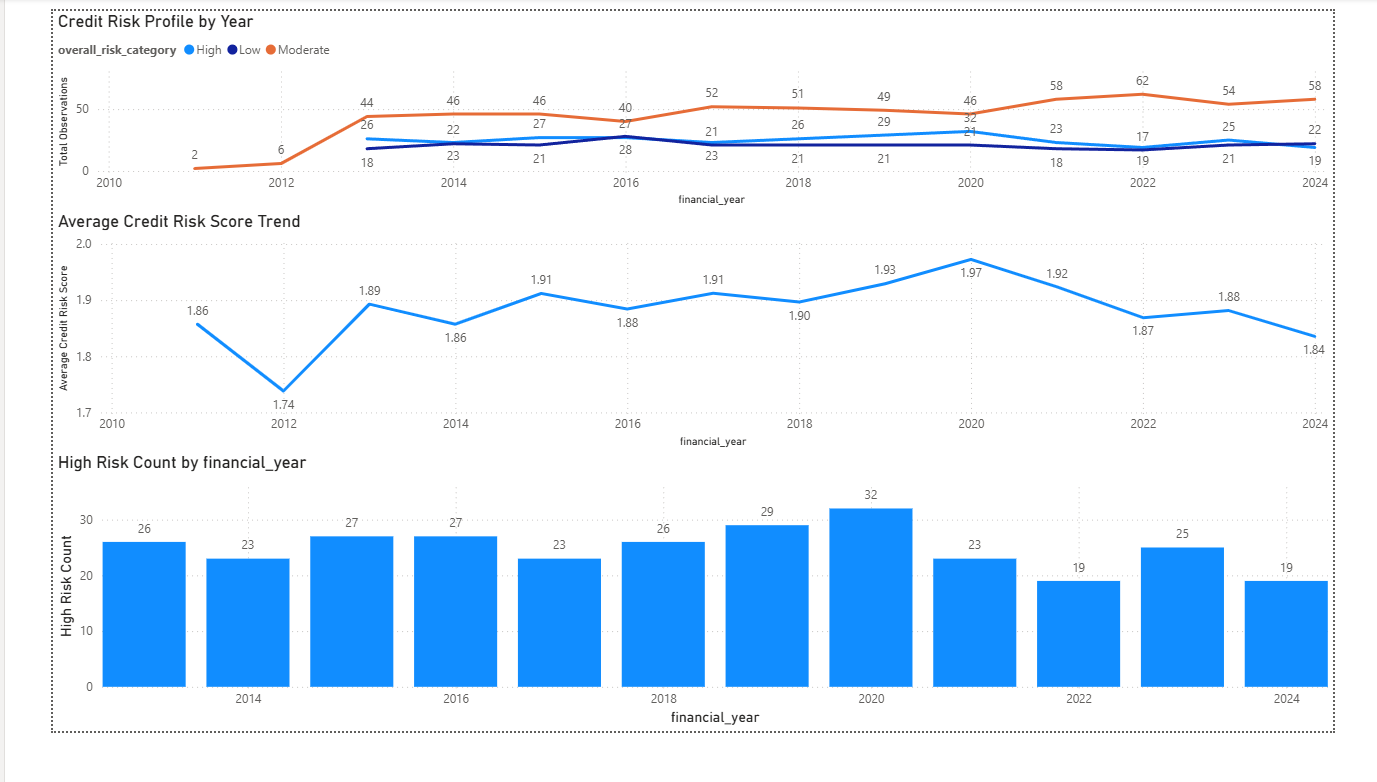

What the dashboard file says about the page in this screenshot:
{"tool":"powerbi","page":{"name":"Credit Risk Trend","canvas":[1280,720],"ordinal":1},"visuals":[{"type":"lineChart","title":"Credit Risk Profile by Year","fields":{"Category":["credit_risk_analysis credit_risk_data.financial_year"],"Y":["credit_risk_analysis credit_risk_data.Total Observations"],"Series":["credit_risk_analysis credit_risk_data.overall_risk_category"]},"box":[0,0,1280,200],"z":0},{"type":"lineChart","title":"Average Credit Risk Score Trend","fields":{"Category":["credit_risk_analysis credit_risk_data.financial_year"],"Y":["credit_risk_analysis credit_risk_data.Average Credit Risk Score"]},"box":[0,200,1280,241.4],"z":1000},{"type":"clusteredColumnChart","fields":{"Category":["credit_risk_analysis credit_risk_data.financial_year"],"Y":["credit_risk_analysis credit_risk_data.High Risk Count"]},"box":[0,441.4,1280,278.6],"z":2000}]}

Visuals, with their boxes in screenshot pixels (x1, y1, x2, y2), scaled from the page's 1280x720 canvas onto the 1377x782 screenshot:
"Credit Risk Profile by Year" lineChart: box(0, 0, 1376, 217)
"Average Credit Risk Score Trend" lineChart: box(0, 217, 1376, 479)
clusteredColumnChart - credit_risk_analysis credit_risk_data.financial_year x credit_risk_analysis credit_risk_data.High Risk Count: box(0, 479, 1376, 781)
